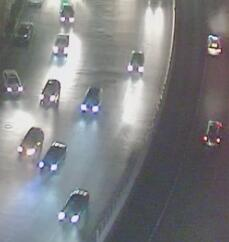car: (56, 188, 91, 226), (37, 142, 68, 172), (17, 126, 44, 157), (38, 78, 62, 106), (80, 85, 103, 114), (9, 19, 34, 45), (201, 118, 223, 147), (1, 69, 23, 95), (125, 49, 147, 74), (58, 0, 76, 25), (52, 32, 70, 55), (206, 33, 221, 55)
